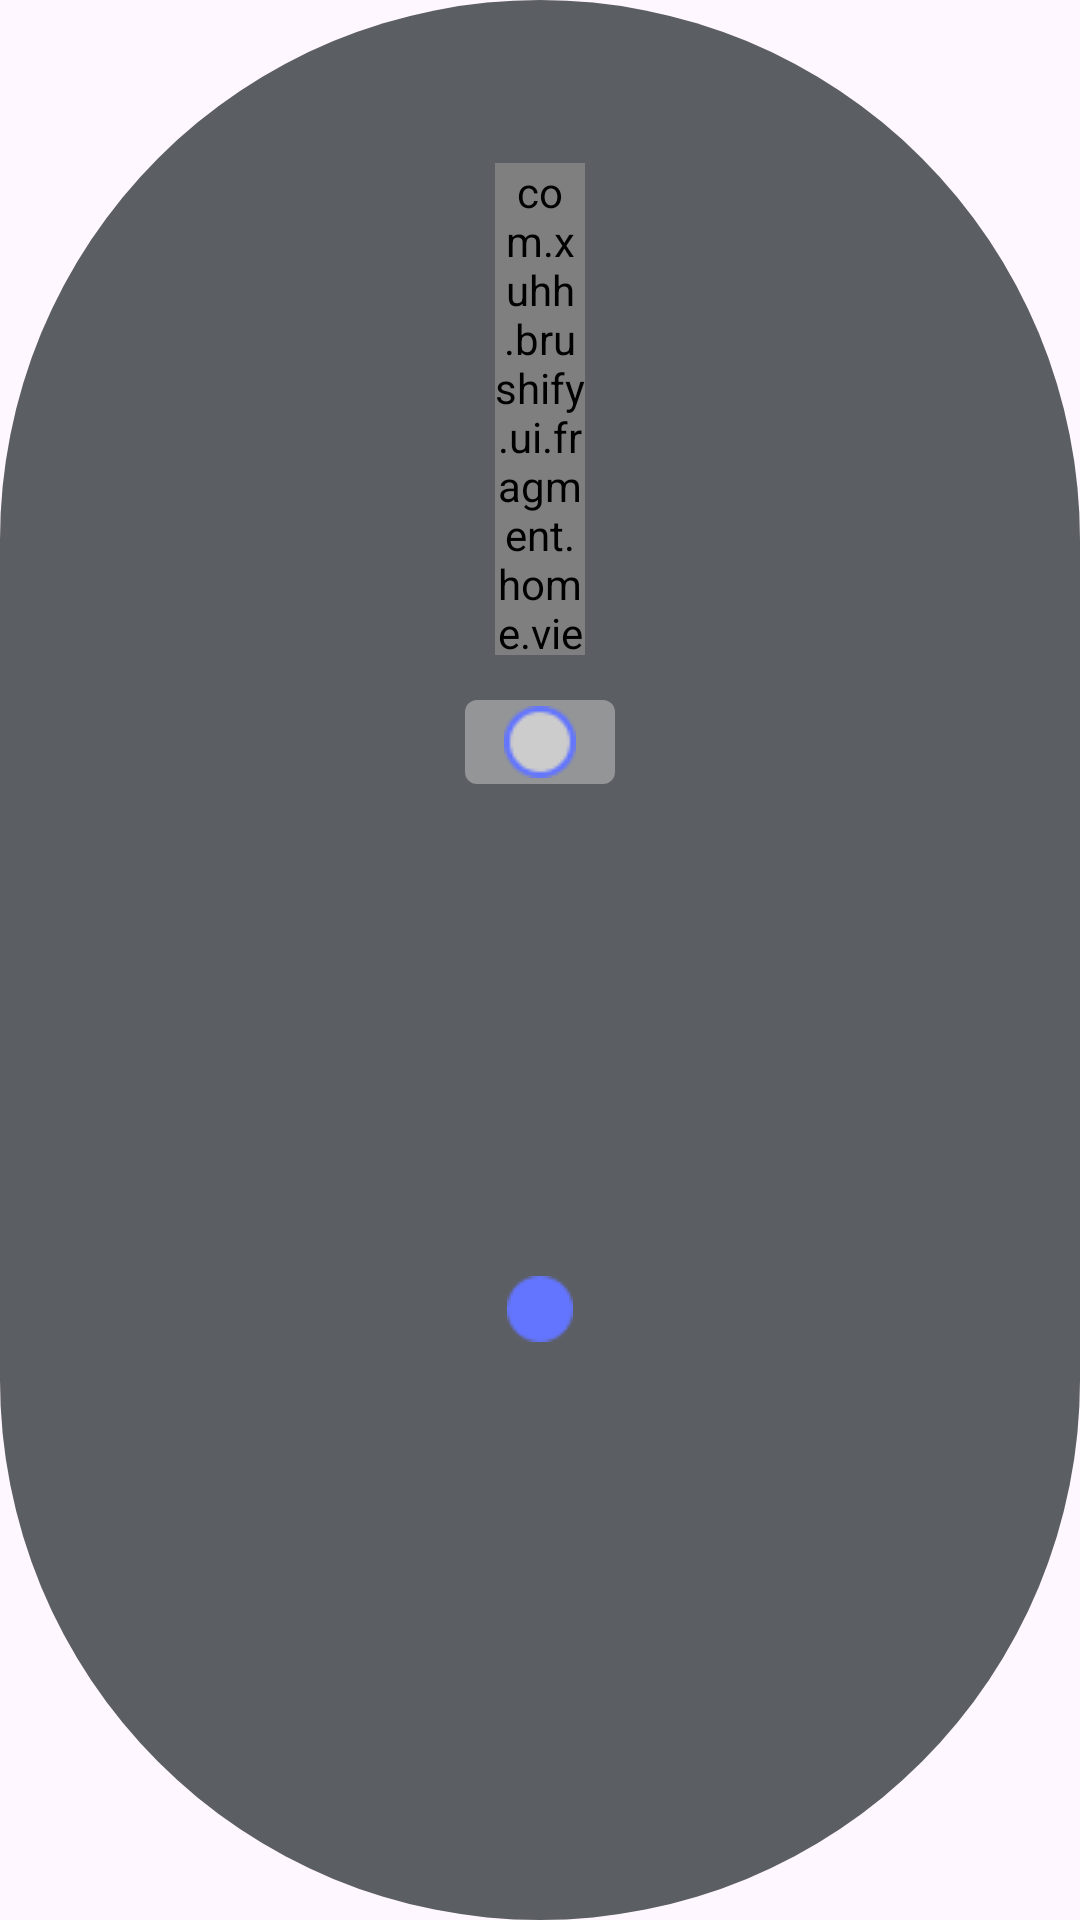

Named icons in this screenshot (1080 x 1920) and their bounding boxes, (x1=x1, y1=y1, x2=x2, y2=y2):
dot: (x1=507, y1=1276, x2=573, y2=1342)
dot empty: (x1=504, y1=706, x2=576, y2=778)
